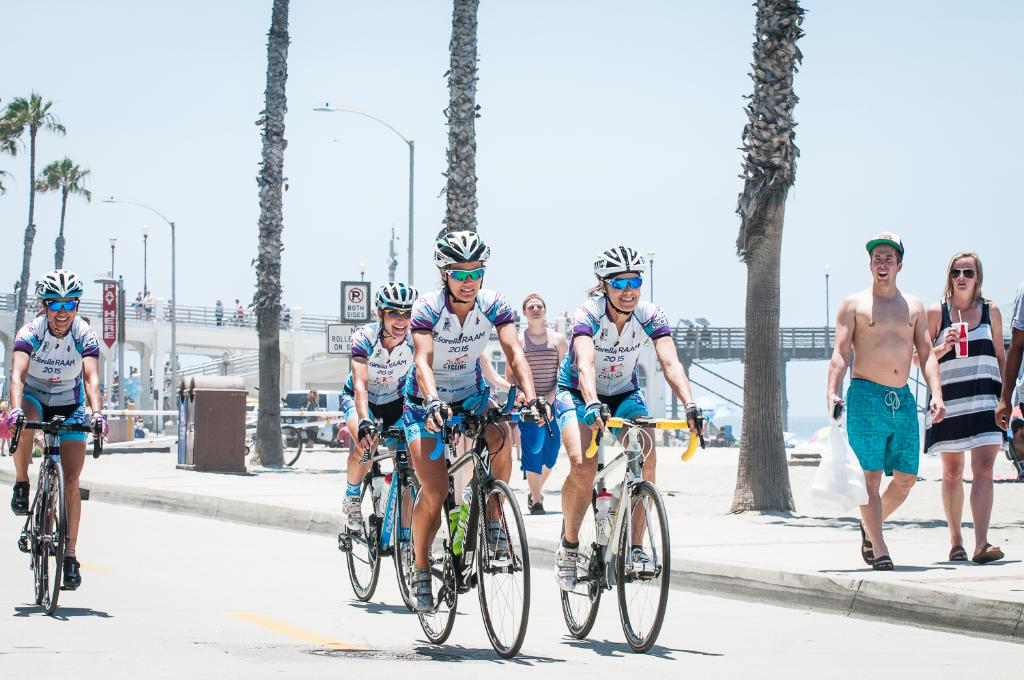Bike: (405, 412, 577, 670)
